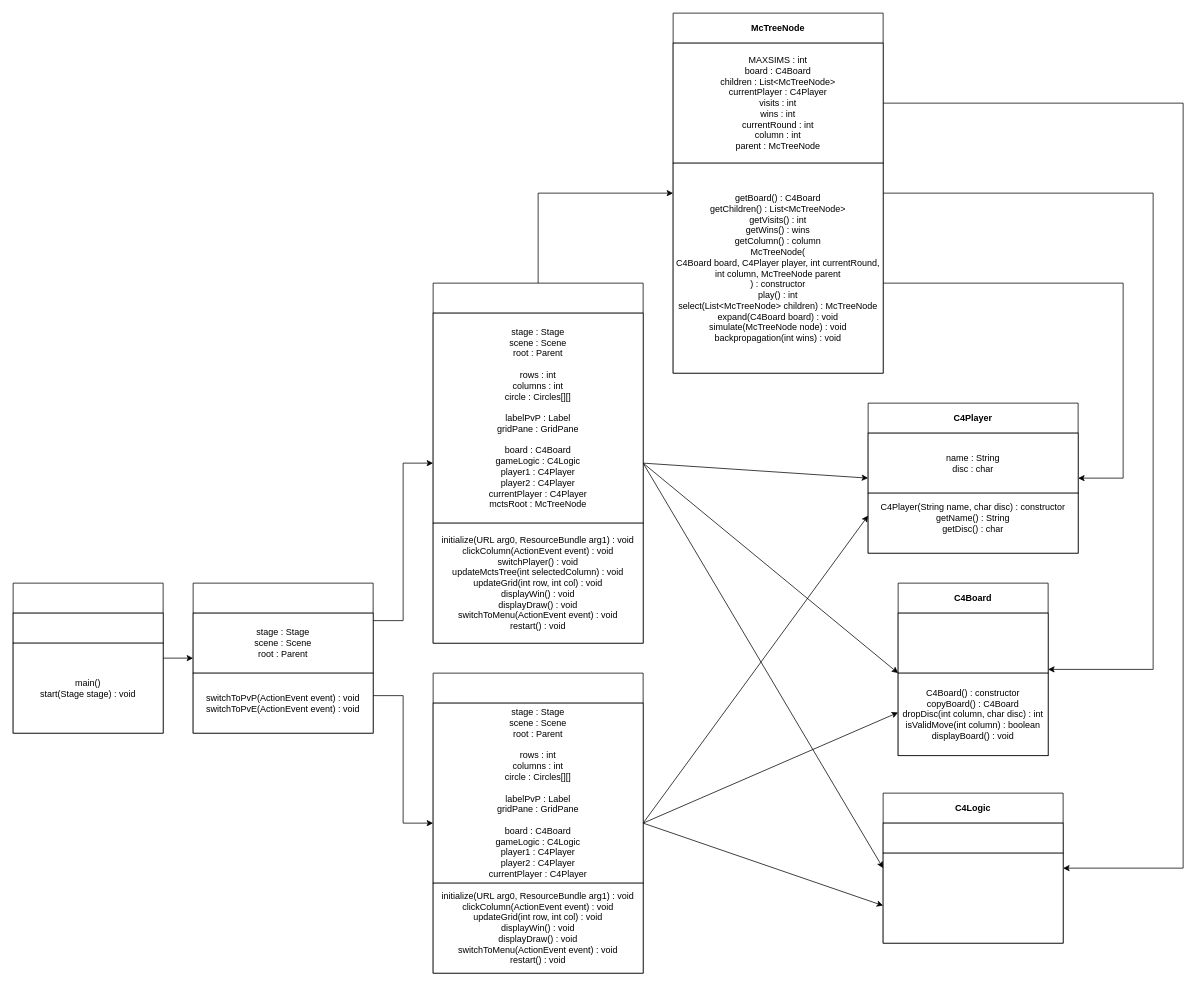
This 1202x986 diagram has some shape labels left out. The box of each missing label's shape, as (x1, y1, x2, y2) in pixels:
checkWin(C4Board board) : boolean checkDraw(C4Board board) : boolean: (882, 852, 1063, 943)
grid : char[][] row : int columns : int: (897, 612, 1048, 673)
GuiMain: (12, 582, 163, 733)
GuiMenuController: (192, 582, 373, 733)
GuiPvE controller: (432, 282, 643, 643)
GuiPvPcontroller: (432, 672, 643, 973)
